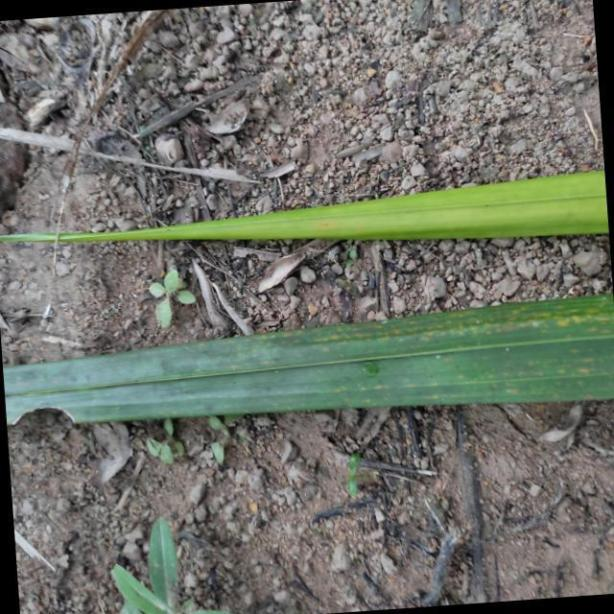nitrogen: (3, 168, 614, 249)
